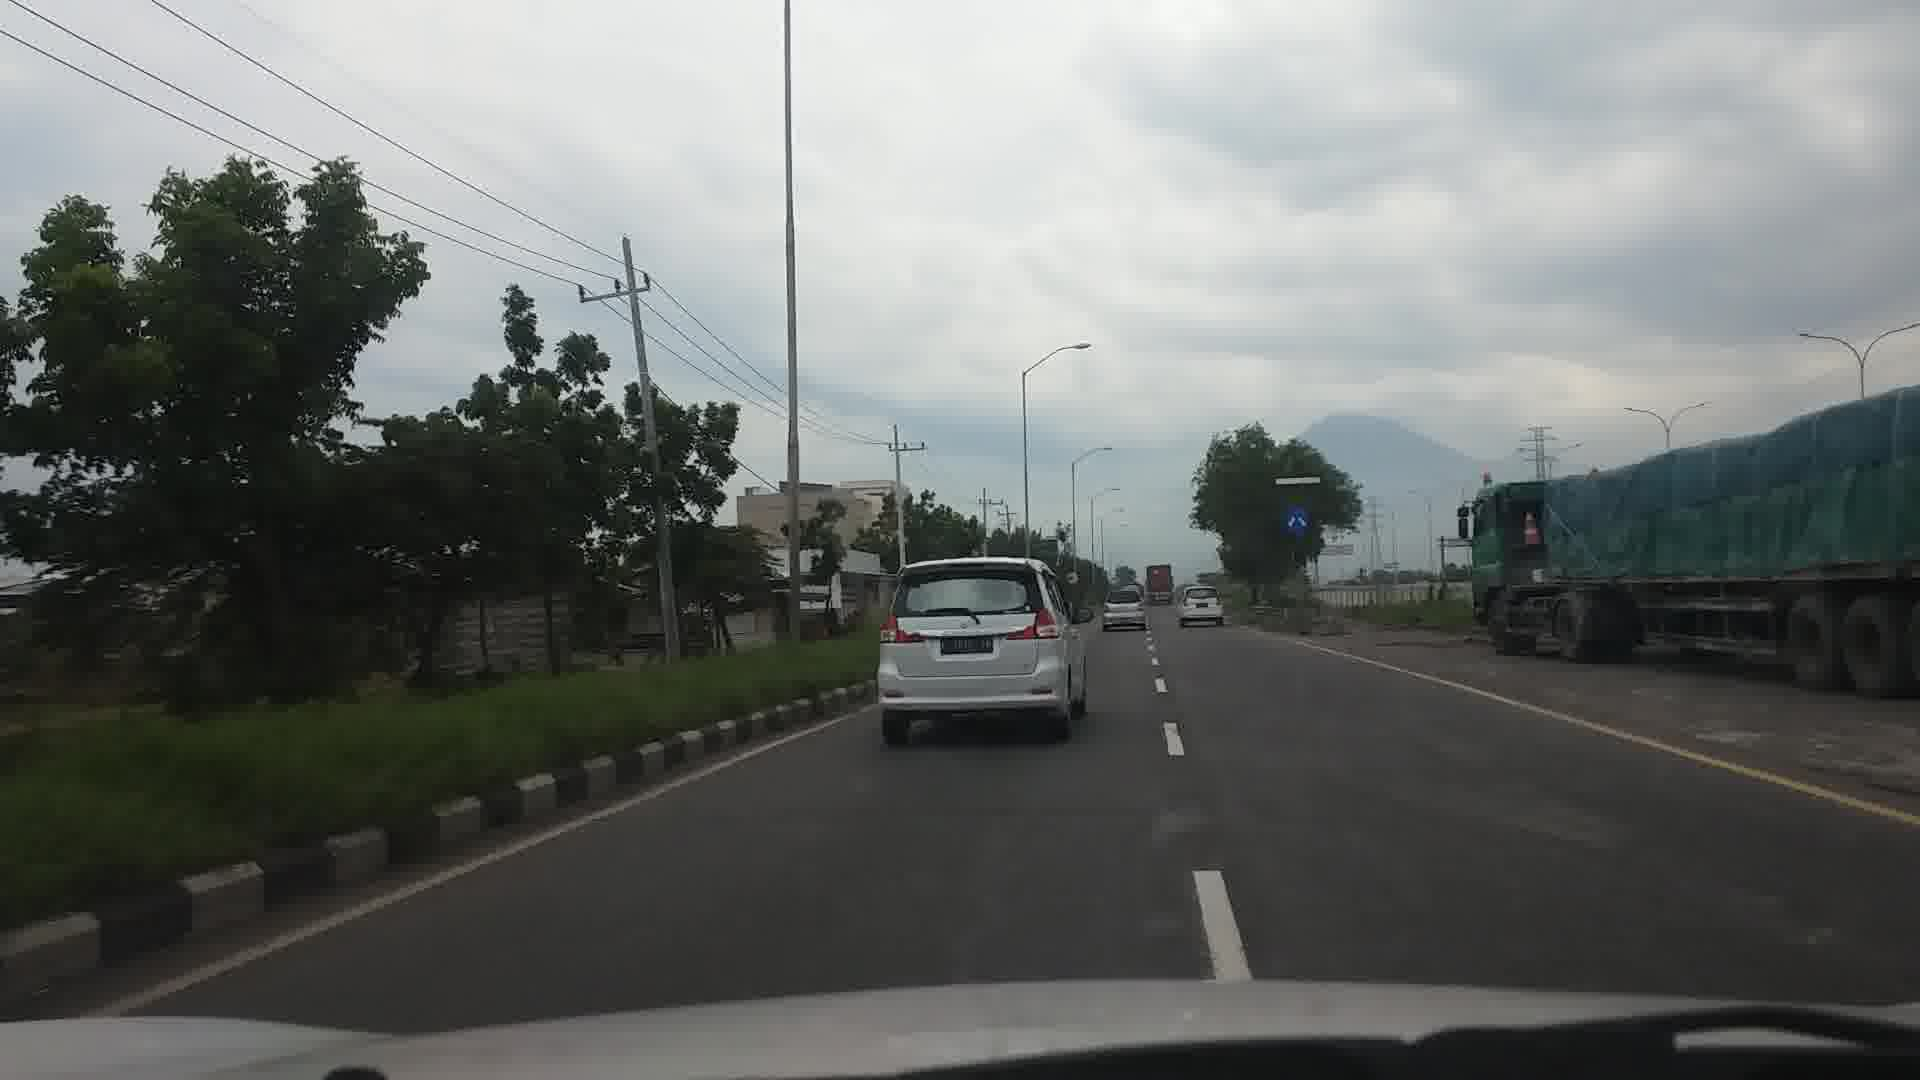plate_positive: (940, 637, 993, 654)
